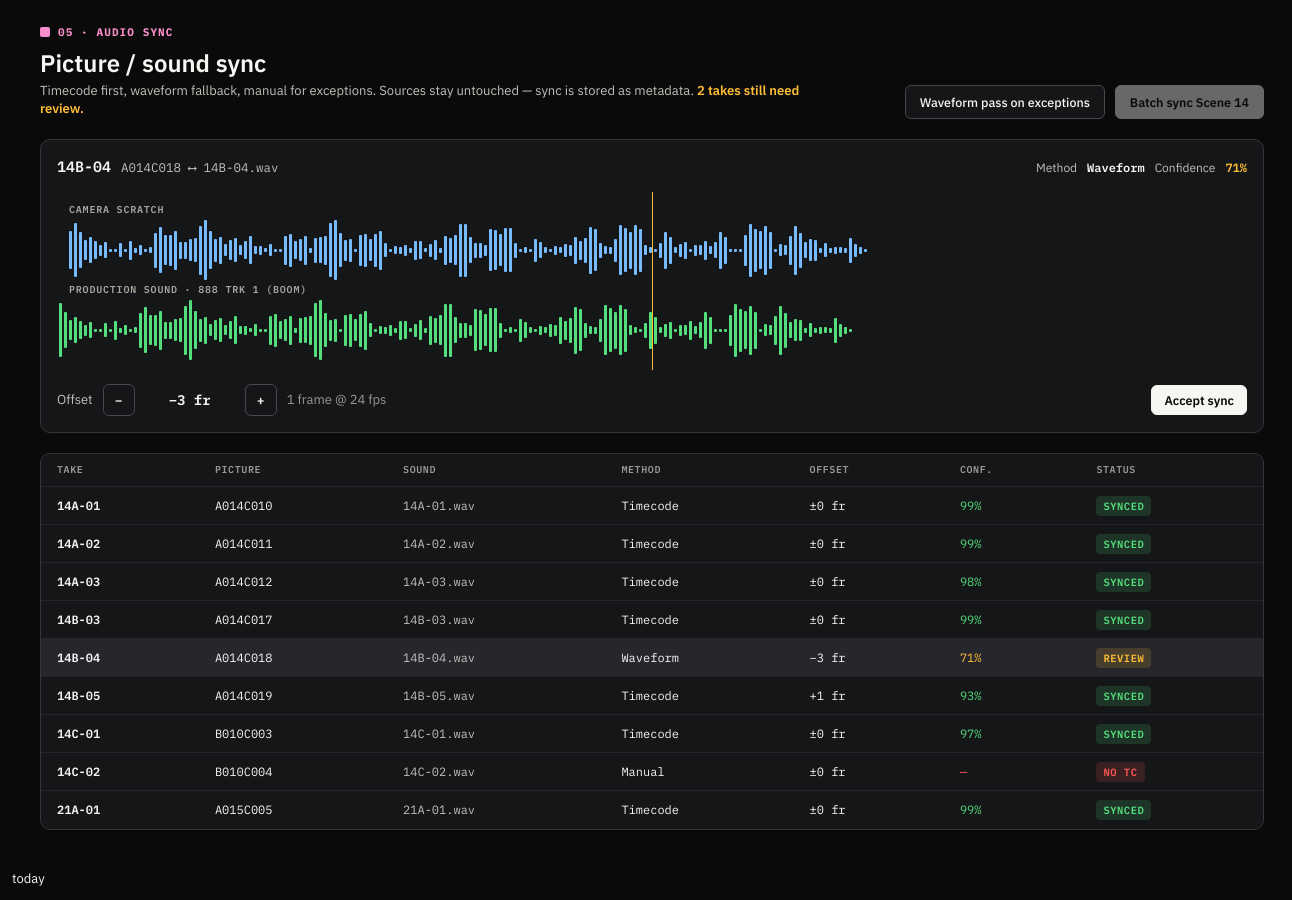
Test: Audio Sync › runs a waveform pass on the take without timecode
Click the button "Waveform pass on exceptions" at (1005, 102), box [905,85,1105,119]
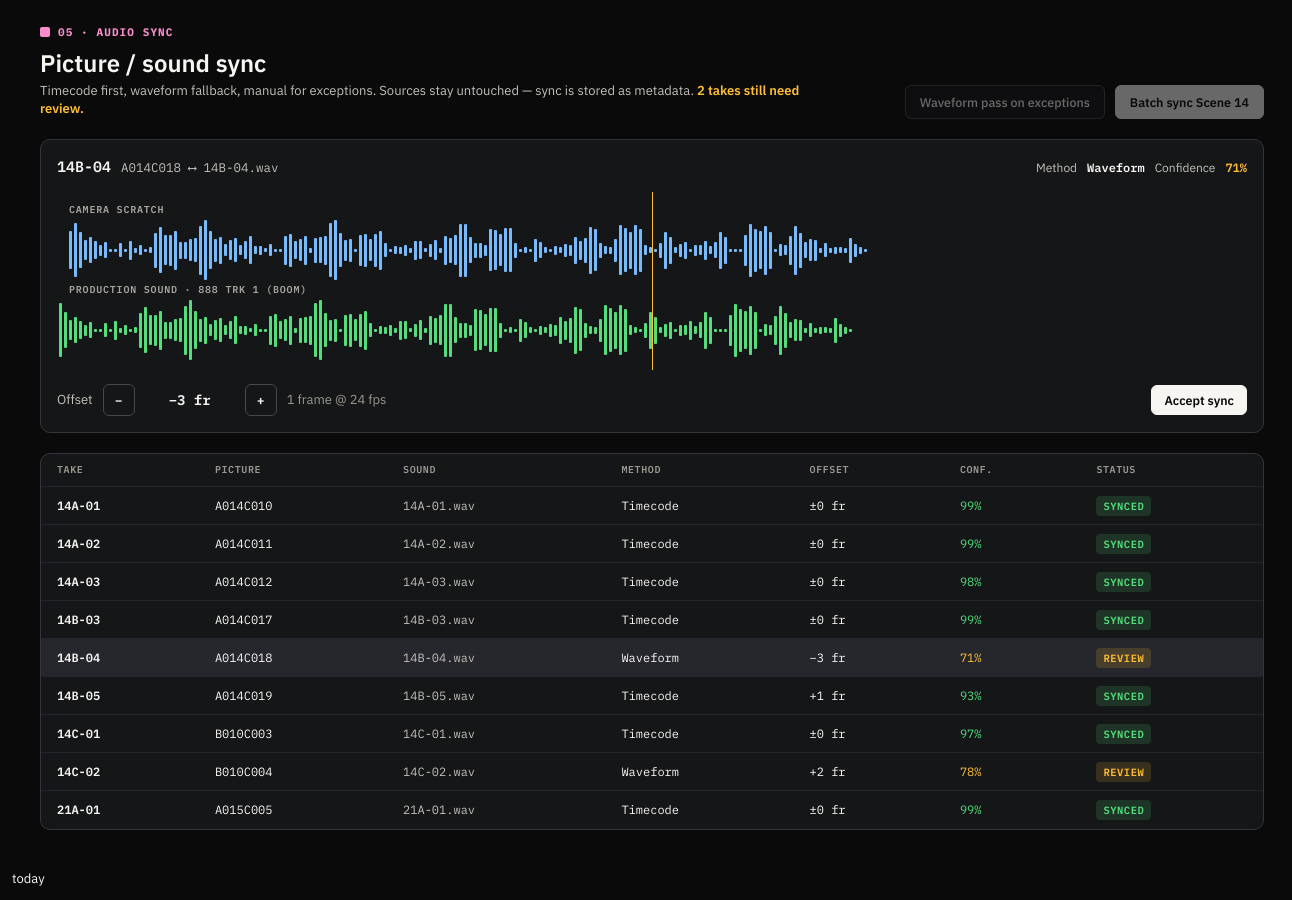
Check: the text "Waveform" in the row of "B010C004" is shown, box [621,764,679,779]
Check: the text "78%" is shown, box [944,753,1080,791]
Check: the text "Review" in the row of "B010C004" is shown, box [1103,765,1144,779]
